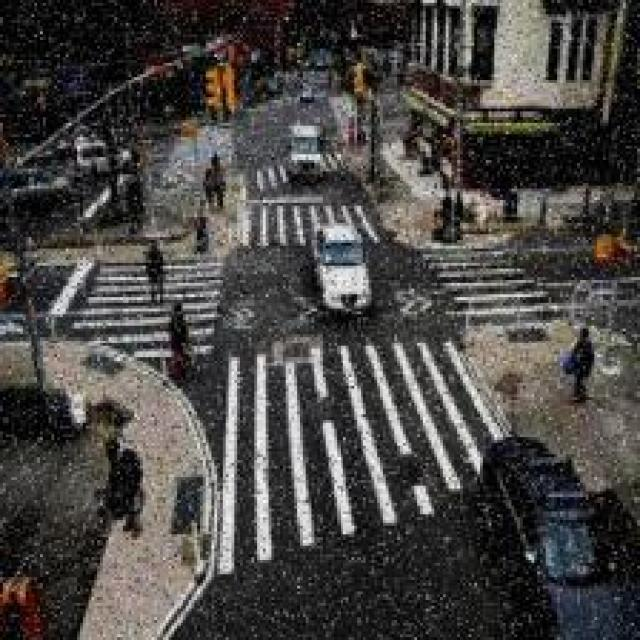walk-crossing: (219, 350, 527, 567), (77, 253, 234, 381), (421, 244, 556, 327), (238, 198, 393, 256), (247, 147, 353, 202)
